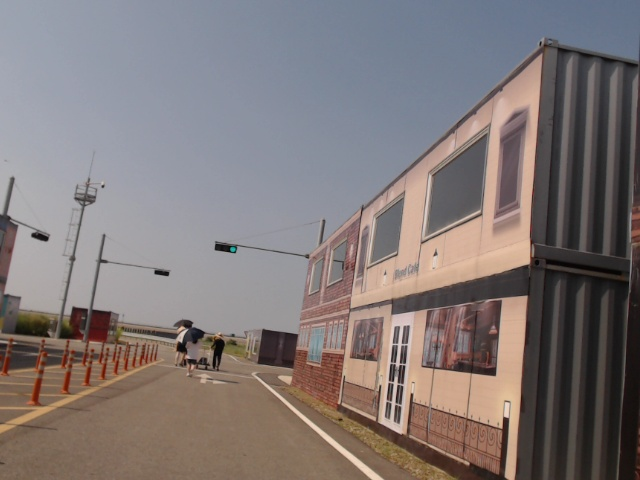green_3: (215, 243, 237, 254)
